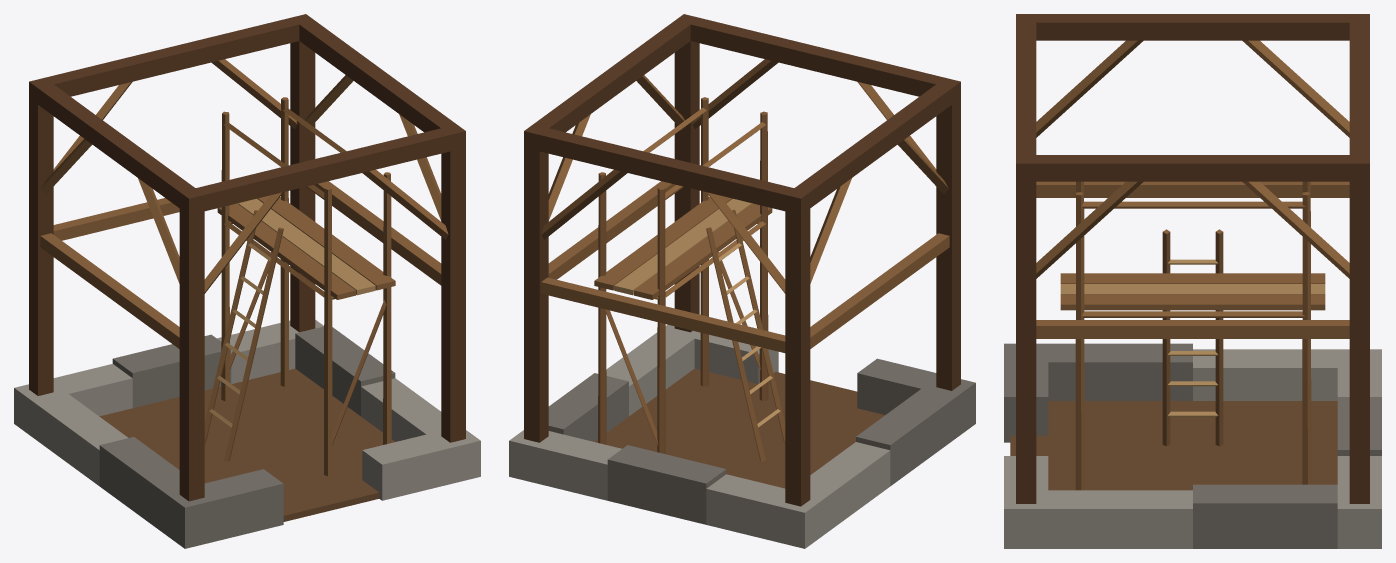
Rendered from site_3x3_2.glb.
3 views of the same model, side by side, from view 1: azimuth 30°, elevation 25°; view 2: azimuth 150°, elevation 25°; view 3: azimuth 270°, elevation 25° (orthographic). The views are drawn at different scales.
Parts seen in each view (by area): view 1: site_3x3_2; view 2: site_3x3_2; view 3: site_3x3_2.
Boxes of the visible parts, x1,y1,x2,y2 form: site_3x3_2: [14, 14, 480, 548]; site_3x3_2: [509, 14, 975, 548]; site_3x3_2: [1004, 14, 1381, 548].
Bounding box in the file's own units: 3 × 3.33 × 3.
